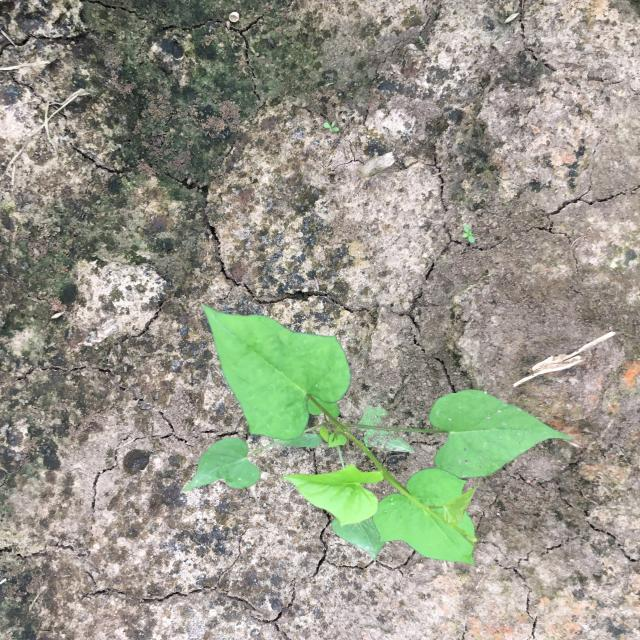MorningGlory: (182, 303, 574, 567)
